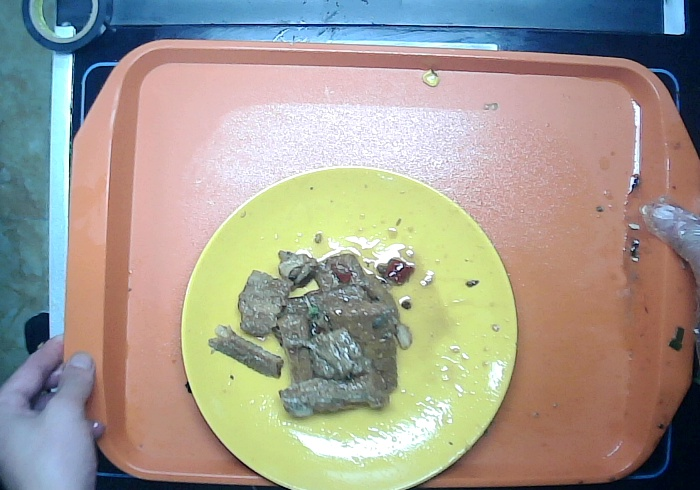HZYJPL-Huang_Se_Yuan_Pan: (178, 163, 520, 490)
